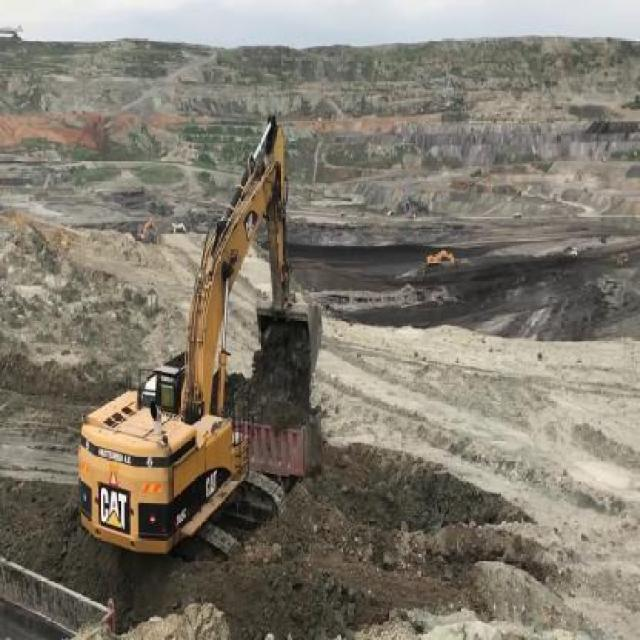Dump Truck: (78, 107, 324, 559), (562, 245, 578, 261)
Excavator: (426, 250, 459, 265), (138, 218, 154, 244)
